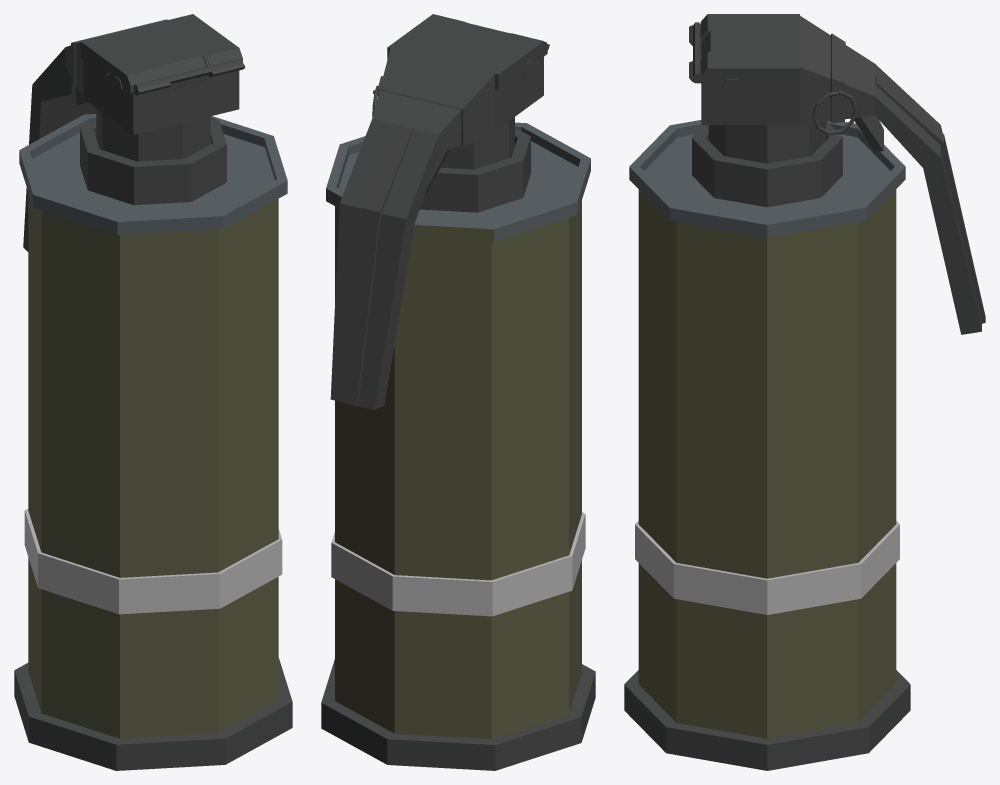
The model's file is low-poly_m18_smoke_grenade.glb.
The picture shows the model from 3 angles, left to right: view 1: azimuth 30°, elevation 25°; view 2: azimuth 150°, elevation 25°; view 3: azimuth 270°, elevation 25°; orthographic projection.
Parts seen in each view (by area): view 1: Cylinder, Cube, Cylinder.006, Cube.005, Cylinder.001; view 2: Cylinder, Cube, Cylinder.006, Cube.001, Cube.007, Cube.005; view 3: Cylinder, Cube, Cylinder.006, Cube.001, Cube.005, Cube.007, Cube.002.
Boxes of the visible parts, x1,y1,x2,y2 form: Cylinder: (14, 108, 292, 770); Cube: (23, 15, 239, 251); Cylinder.006: (24, 509, 282, 614); Cube.005: (80, 14, 242, 93); Cylinder.001: (134, 58, 243, 91); Cylinder: (321, 117, 595, 770); Cube: (330, 15, 543, 409); Cylinder.006: (331, 512, 585, 616); Cube.001: (345, 124, 413, 406); Cube.007: (377, 76, 473, 146); Cube.005: (387, 14, 547, 89); Cylinder: (624, 120, 910, 770); Cube: (701, 15, 981, 334); Cylinder.006: (635, 521, 899, 614); Cube.001: (875, 75, 985, 323); Cube.005: (700, 14, 799, 83); Cube.007: (830, 33, 845, 123); Cube.002: (854, 115, 883, 151).
Size of the model in its own units: 1.55 by 4 by 1.96.
